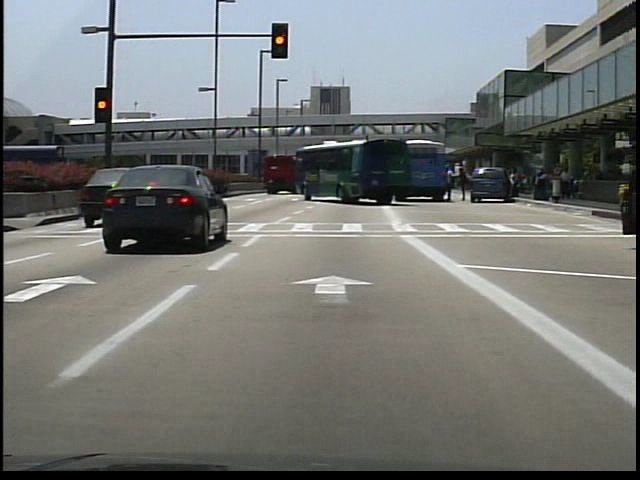person: (456, 162, 470, 204), (508, 168, 520, 202), (445, 165, 452, 202)
